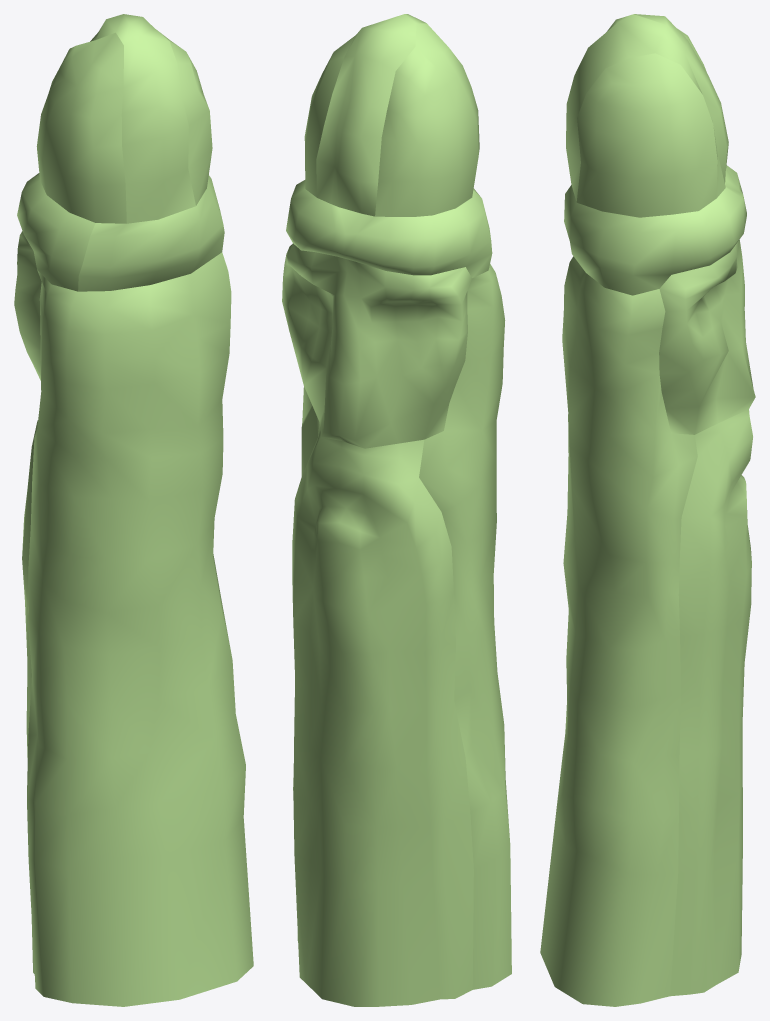
File: totem.fbx
3 renders of one model, left to right at view 1: azimuth 30°, elevation 25°; view 2: azimuth 150°, elevation 25°; view 3: azimuth 270°, elevation 25°, orthographic.
Parts seen in each view (by area): view 1: g retopo_01; view 2: g retopo_01; view 3: g retopo_01.
Part boxes in pixels (x1,y1,x2,y2): g retopo_01: (14,14,253,1006); g retopo_01: (282,14,511,1006); g retopo_01: (540,14,755,1006).
Size of the model in its own units: 45.32 by 200 by 41.32.
